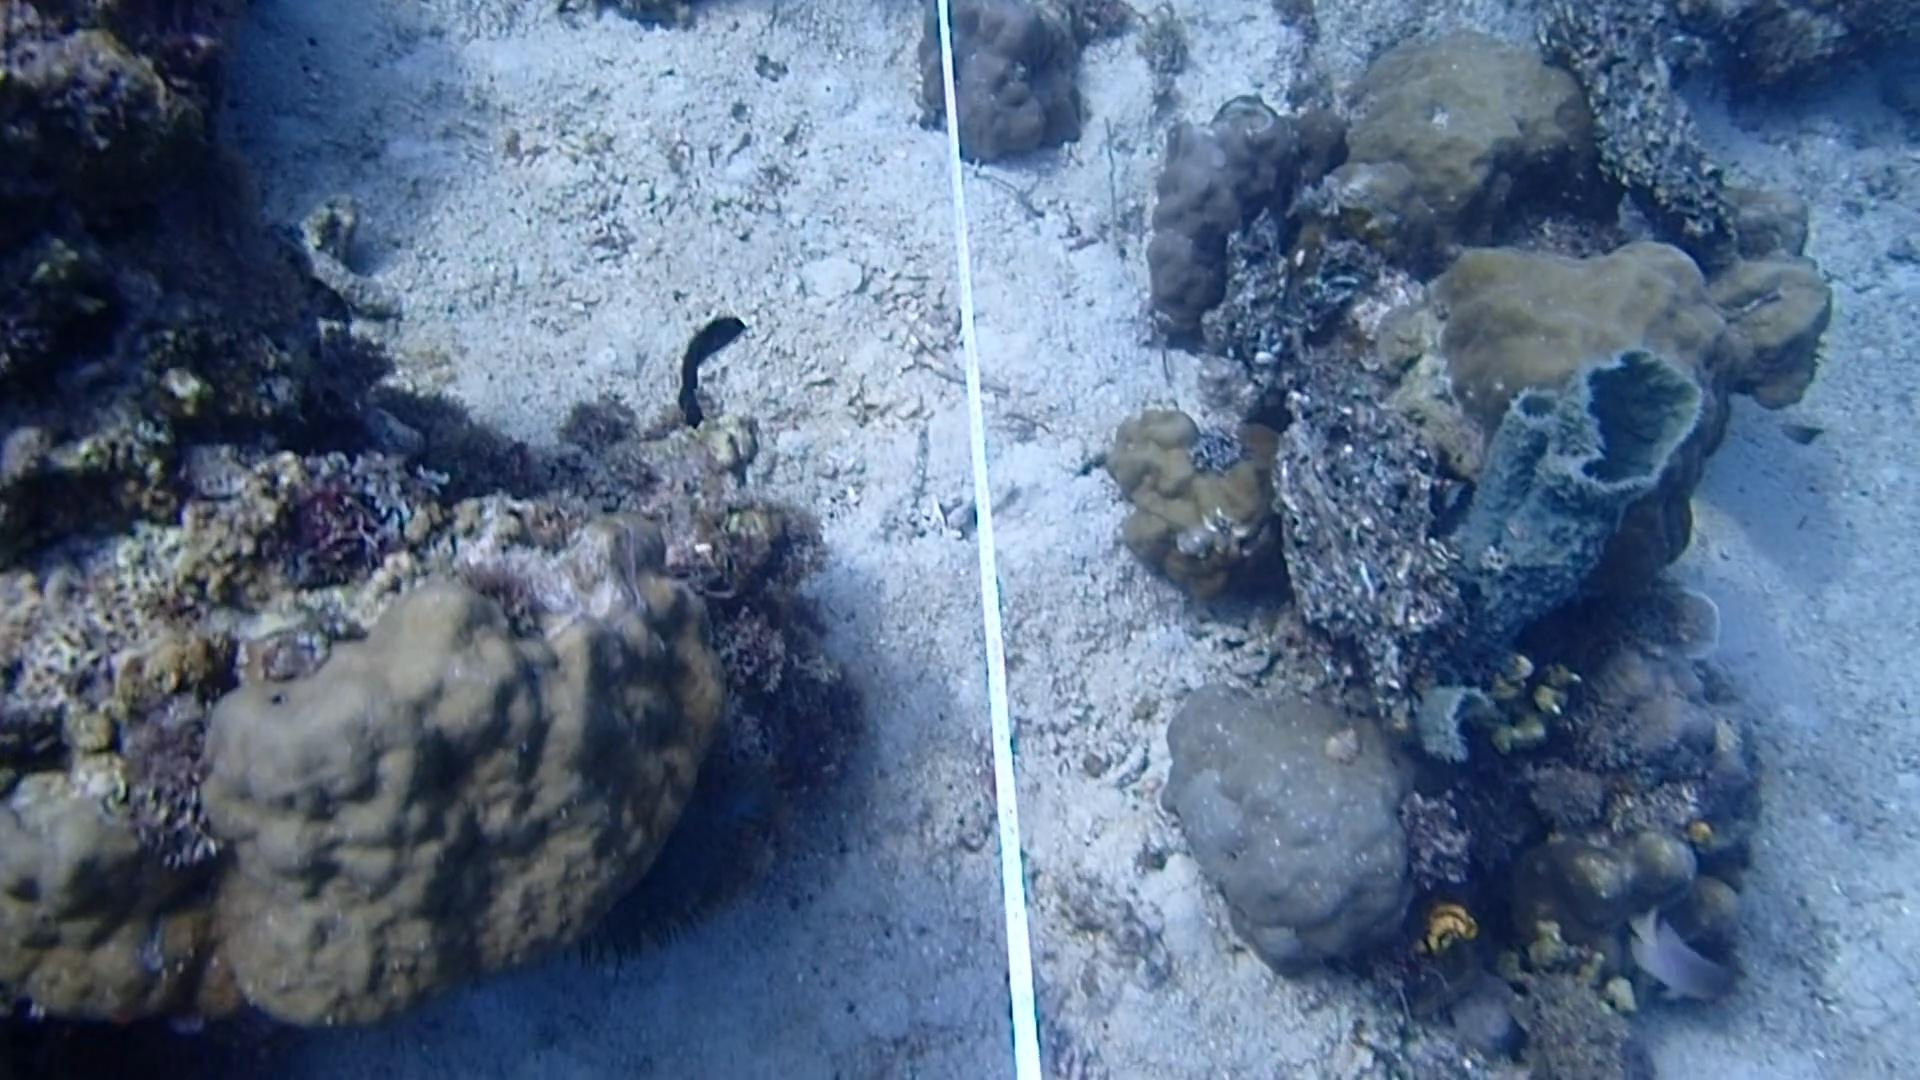Blue Nose Fish: (1629, 905, 1725, 1002)
Dark Fish: (662, 306, 758, 429)
